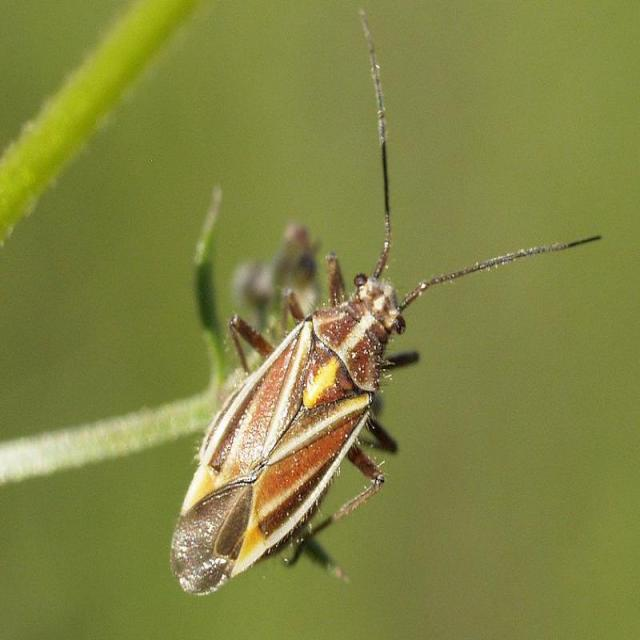Miridae-Adult-: (168, 8, 603, 600)
